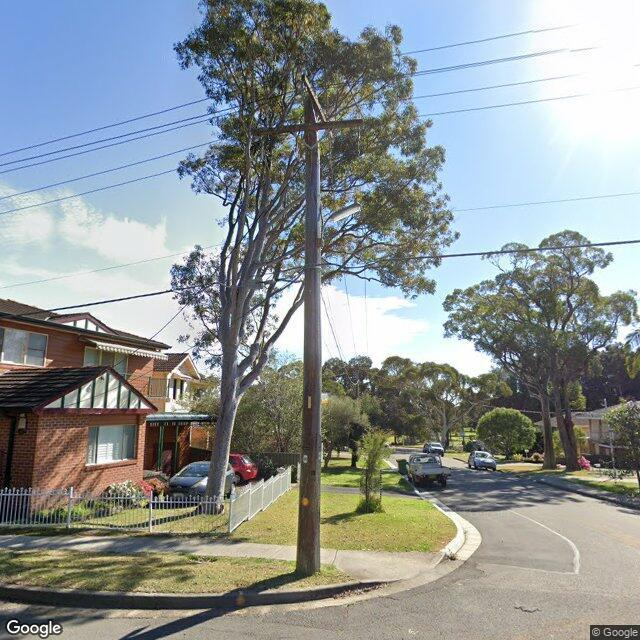crossarm: (302, 74, 334, 138), (252, 118, 363, 136)
streetlight: (320, 202, 363, 233)
timber-pole: (294, 94, 320, 575)
